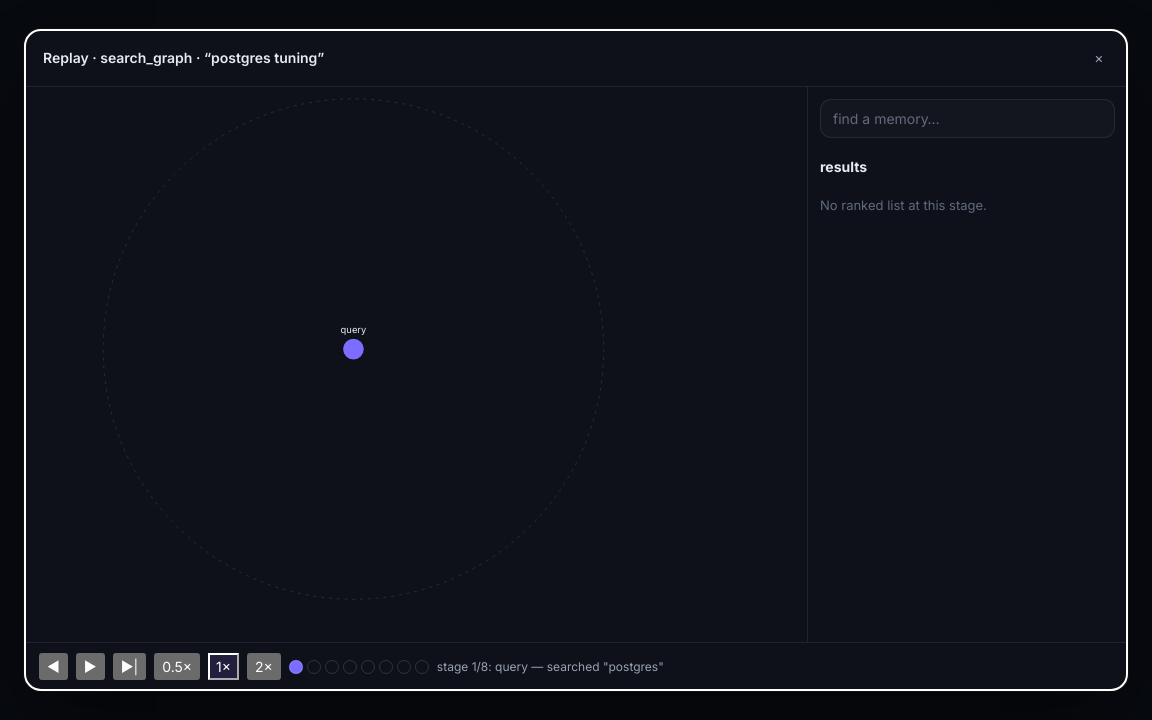
Test: ReplayOverlay › summarises where the returned page came from on the cut stage
Expected: the text "stage 1/8: query — searched \"postgres\"" is shown, x1=437 y1=658 x2=664 y2=676
Click the button named "cut" at [422, 667], box x1=415 y1=660 x2=429 y2=674
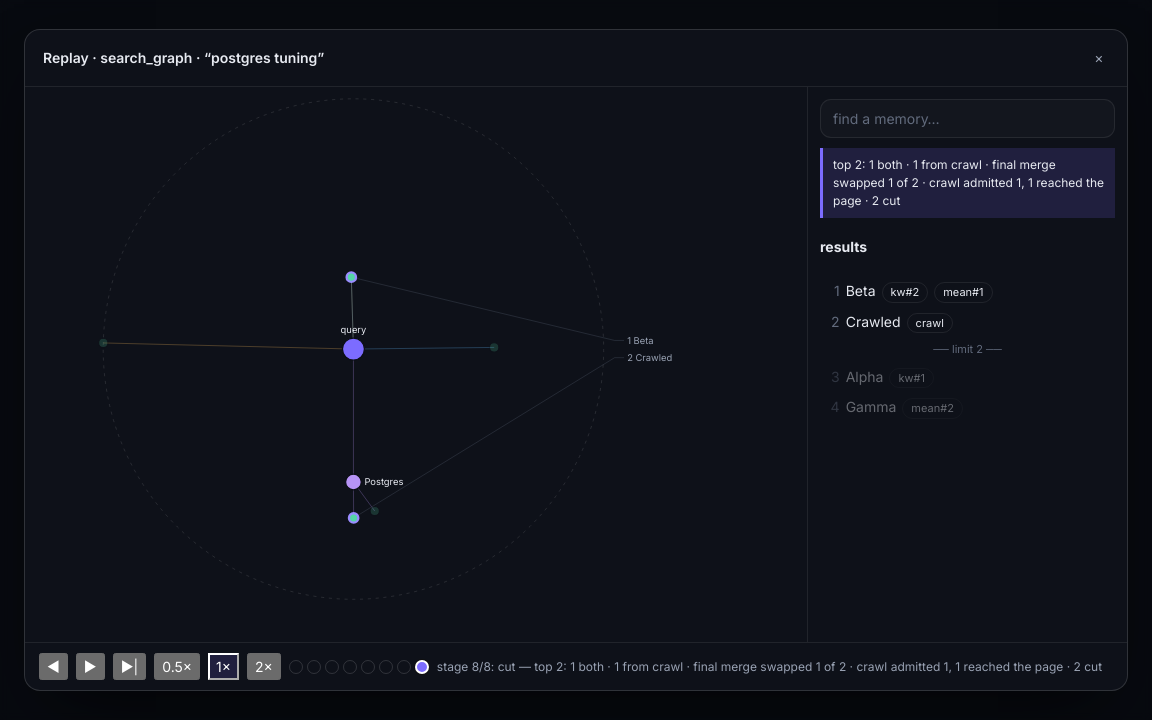
Result: the text named "outcome" shows "1 both · 1 from crawl · final merge swapped 1 of 2 · crawl admitted 1, 1 reached the page" at x1=833 y1=157 x2=1104 y2=208
